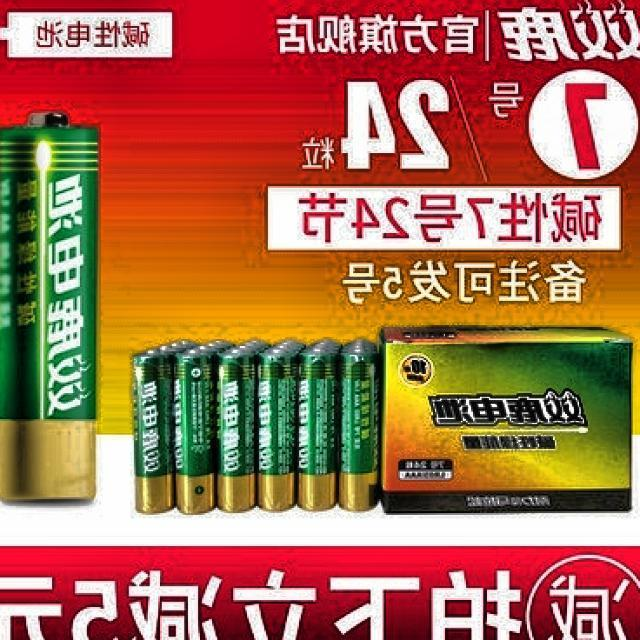battery: (135, 340, 379, 513), (0, 112, 98, 500)
